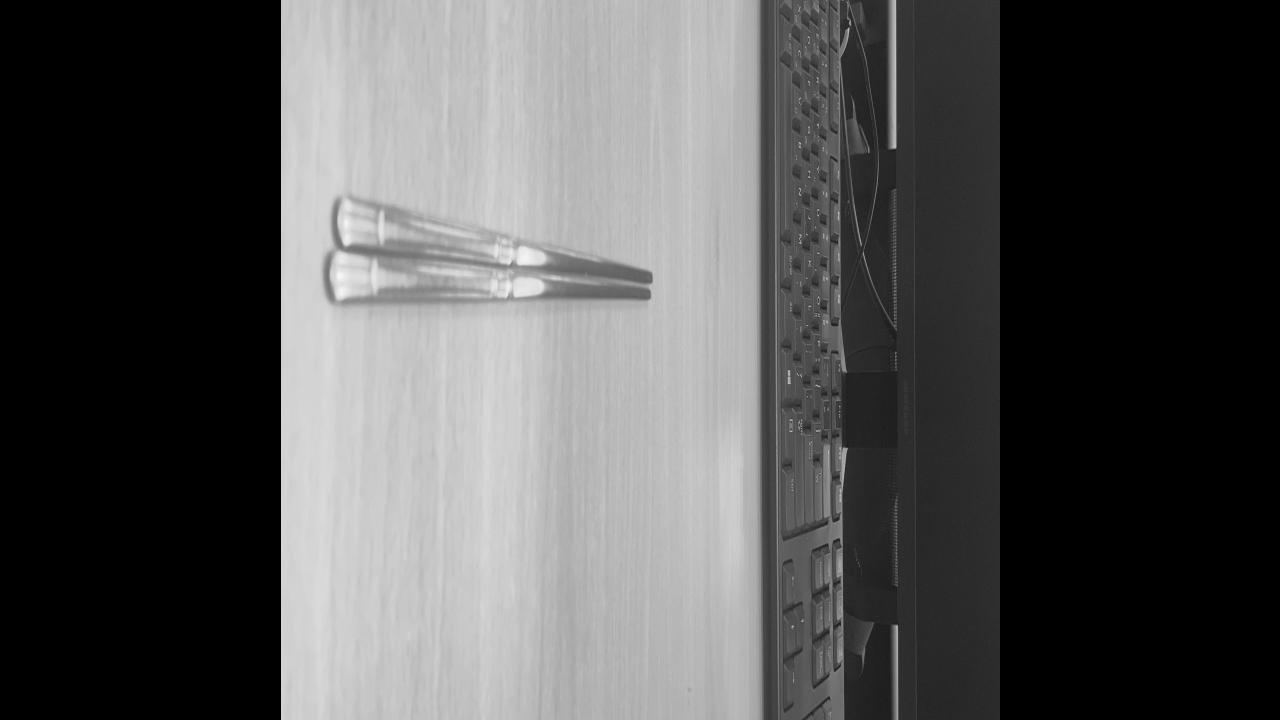chopstick: (324, 196, 654, 302)
